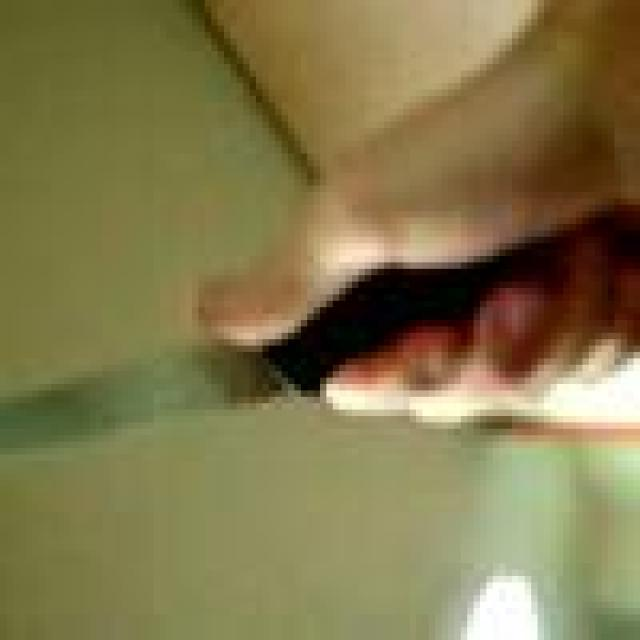Knife: (0, 153, 640, 500)
